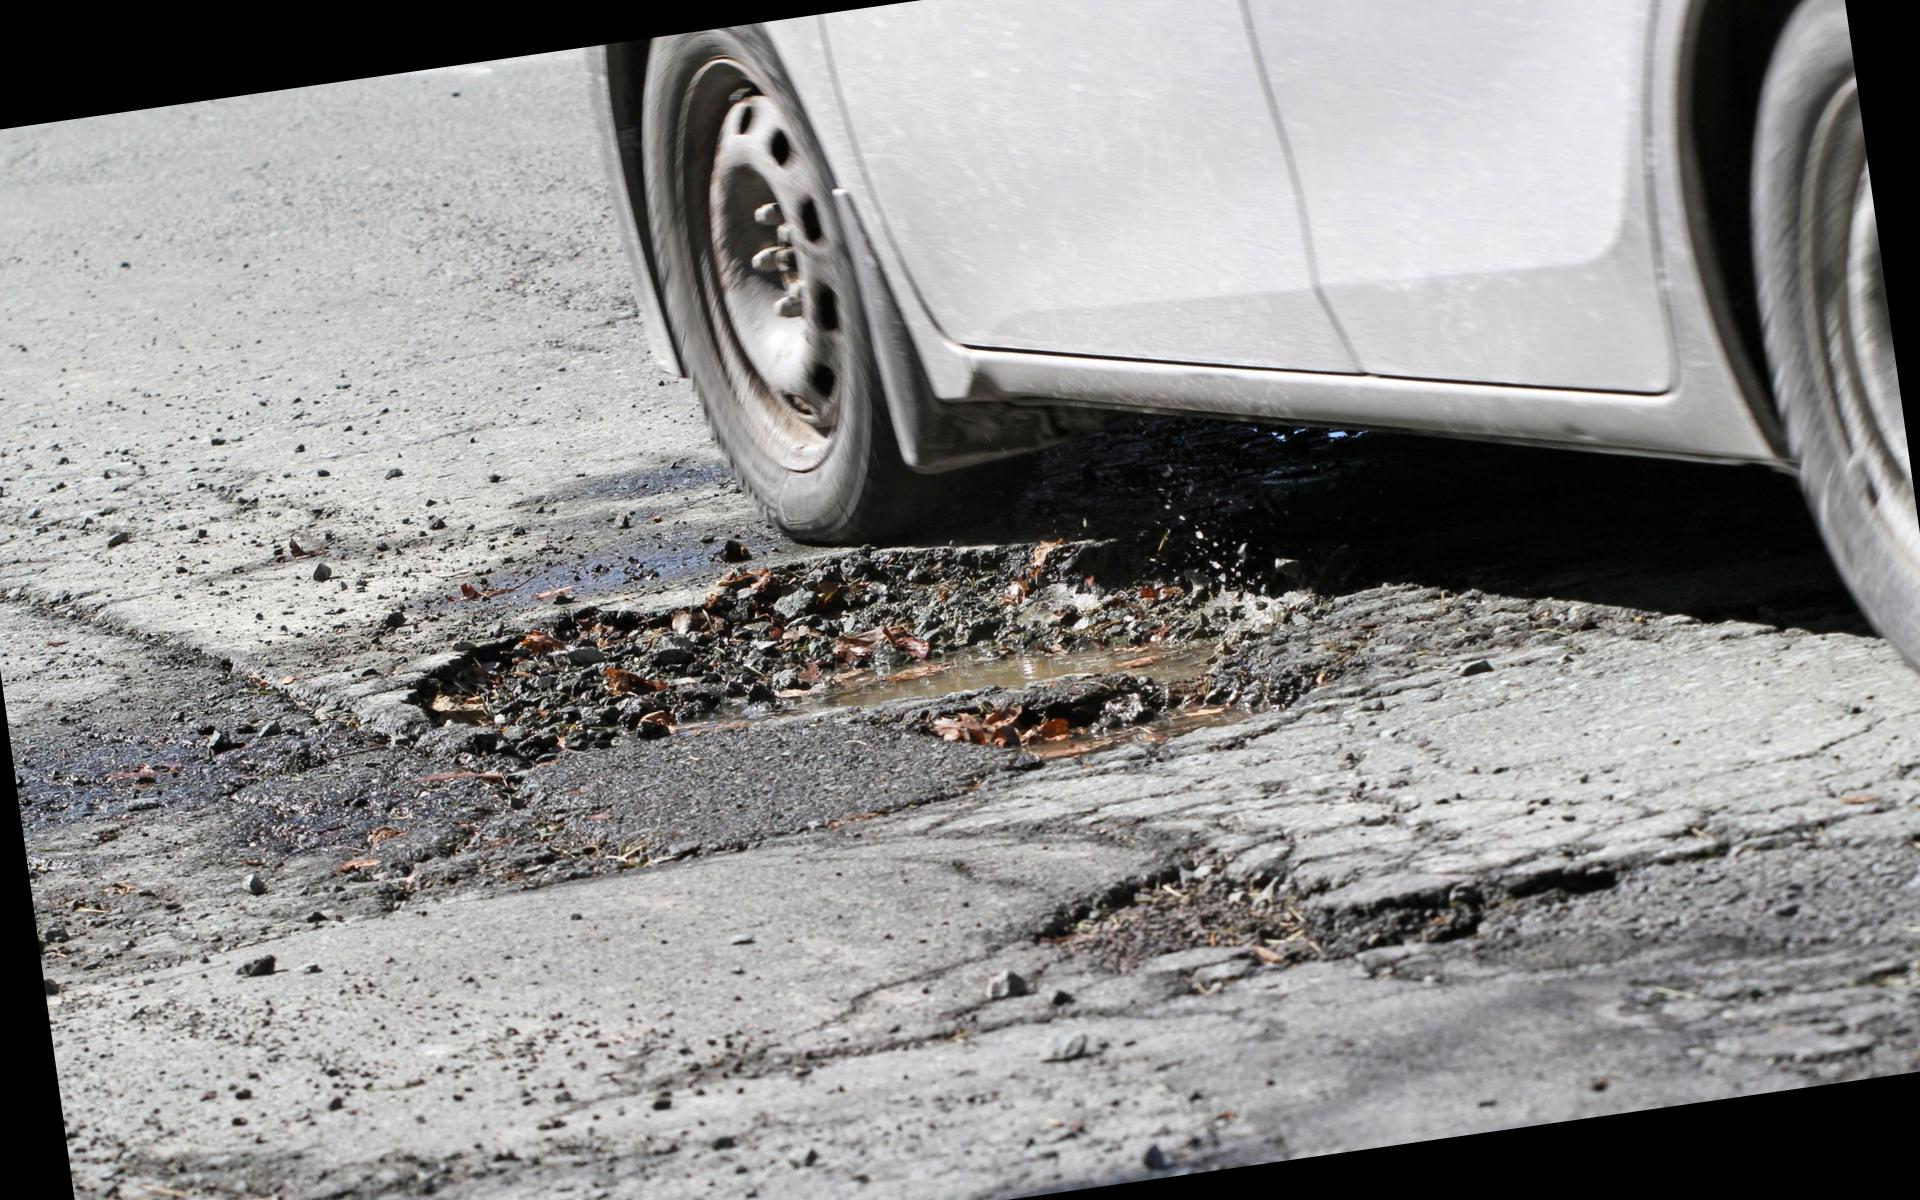pothole: (370, 489, 1331, 886), (936, 756, 1662, 1128)
